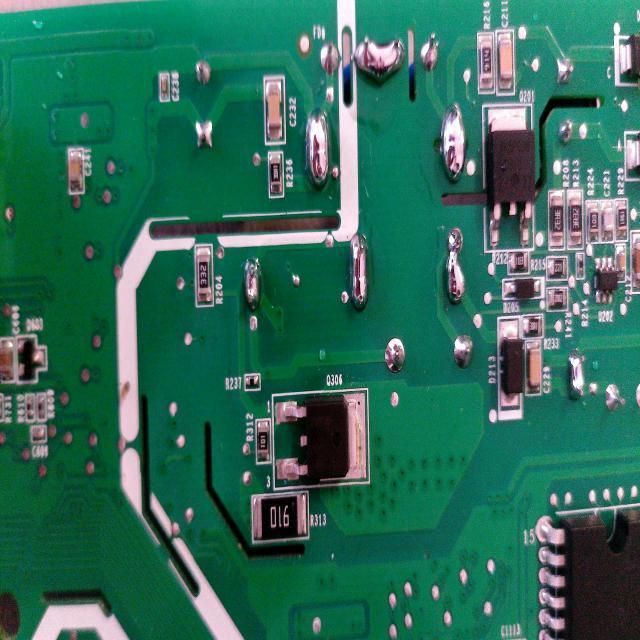Soldering shorted: (352, 33, 406, 86), (439, 98, 467, 192), (304, 105, 334, 192), (347, 232, 373, 313), (446, 225, 468, 301), (566, 348, 588, 408), (241, 256, 264, 312)
